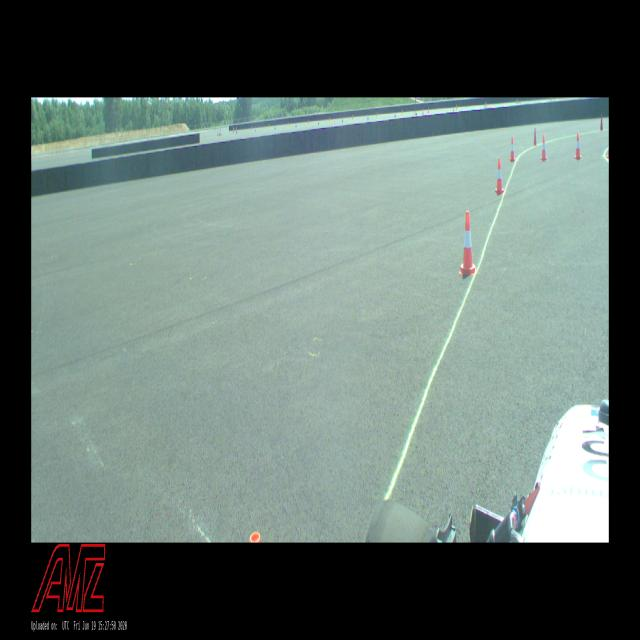orange_cone: (460, 212, 476, 274), (495, 158, 504, 195), (540, 134, 548, 160), (574, 132, 581, 160), (509, 136, 516, 162)
